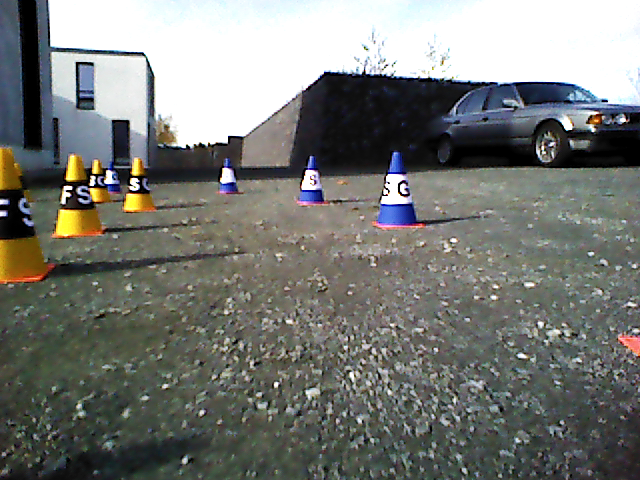bluecone: (379, 152, 415, 224), (300, 155, 324, 201), (218, 158, 239, 191), (106, 161, 121, 191)
yellowcone: (1, 147, 42, 277), (56, 155, 101, 234), (125, 159, 153, 209), (89, 159, 110, 200)
